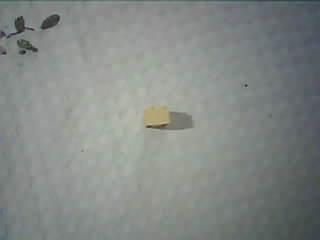lego: (140, 104, 170, 129)
